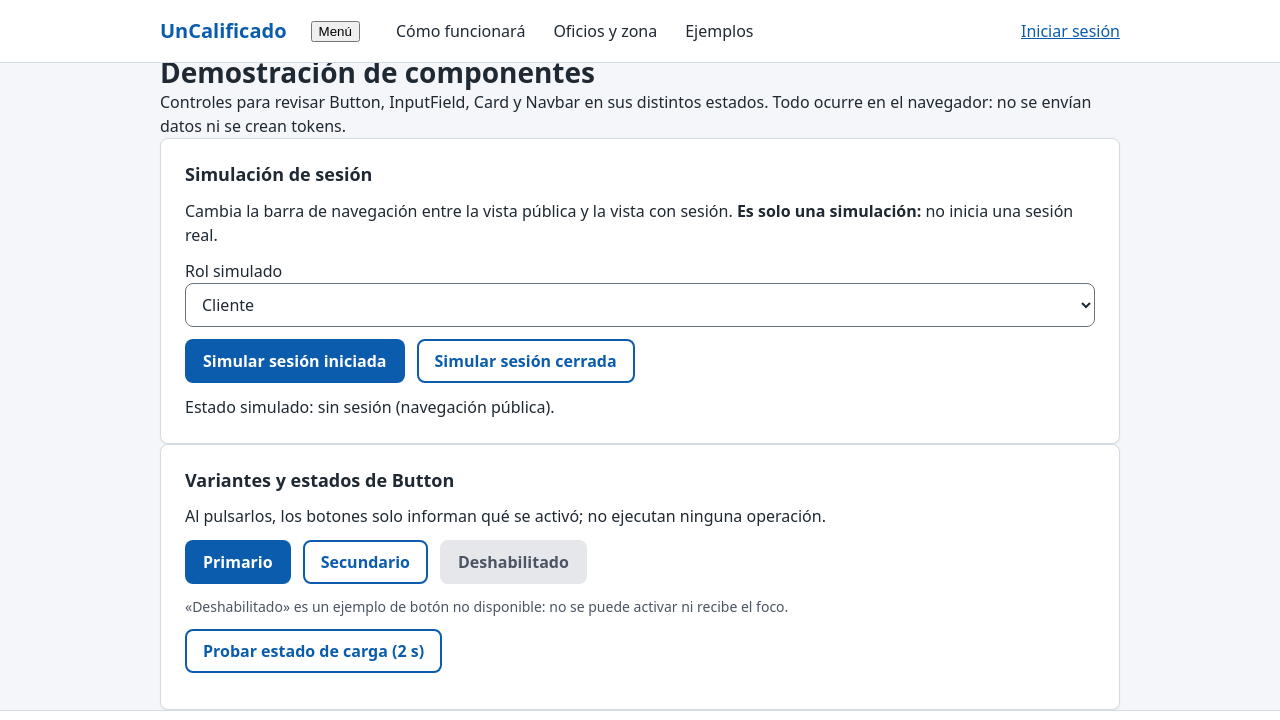
Scenario: DemoComponentesPage (pantalla principal de la vista previa) › la sesión solo cambia con los controles de simulación y la Navbar refleja el rol
(page scrolled)
Expected: the link "Iniciar sesión" is shown, [1021,19,1120,43]
Click the button "Simular sesión iniciada": (295, 361) [185,339,404,383]
(page scrolled)
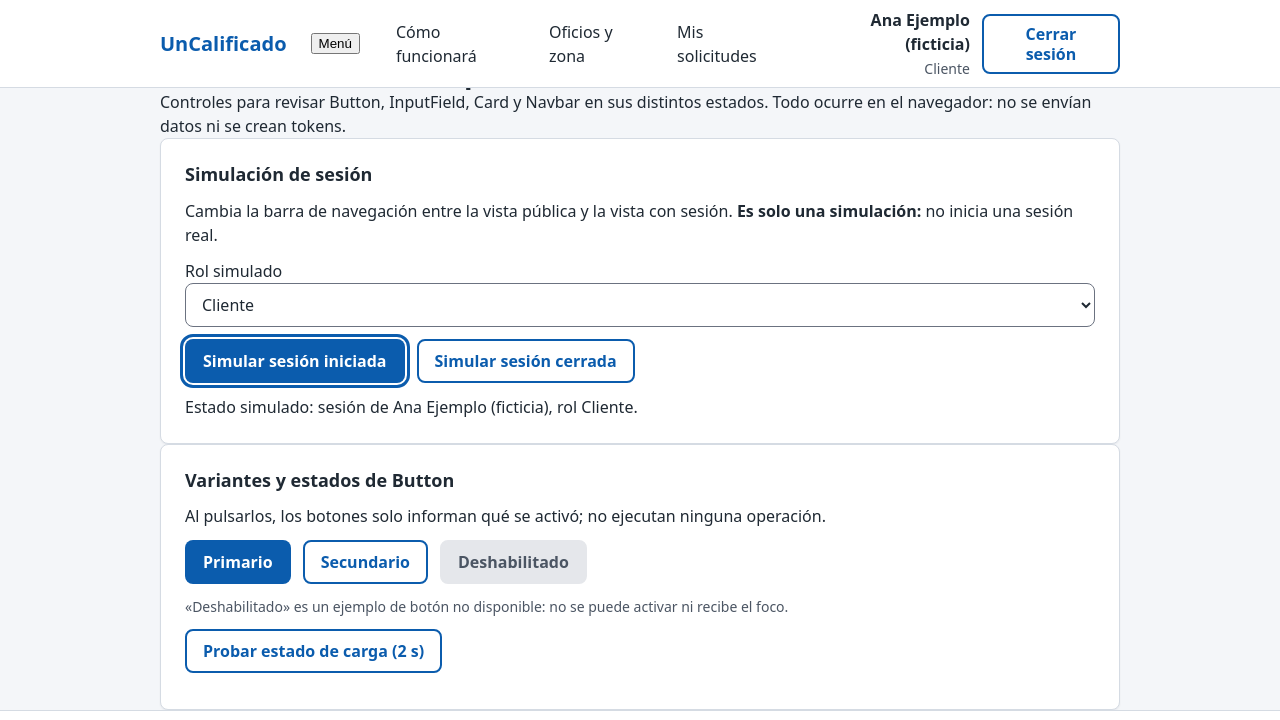
Now the text "Ana Ejemplo (ficticia)" is shown, box [871,9,970,55]
Now the link "Mis solicitudes" is shown, box [677,20,757,66]
Now the text "Estado simulado: sesión de Ana Ejemplo (ficticia), rol Cliente." is shown, box [185,396,638,418]
Select "Administrador" in the dropdown labelled "Rol simulado": (640, 305) [185,283,1095,327]
(page scrolled)
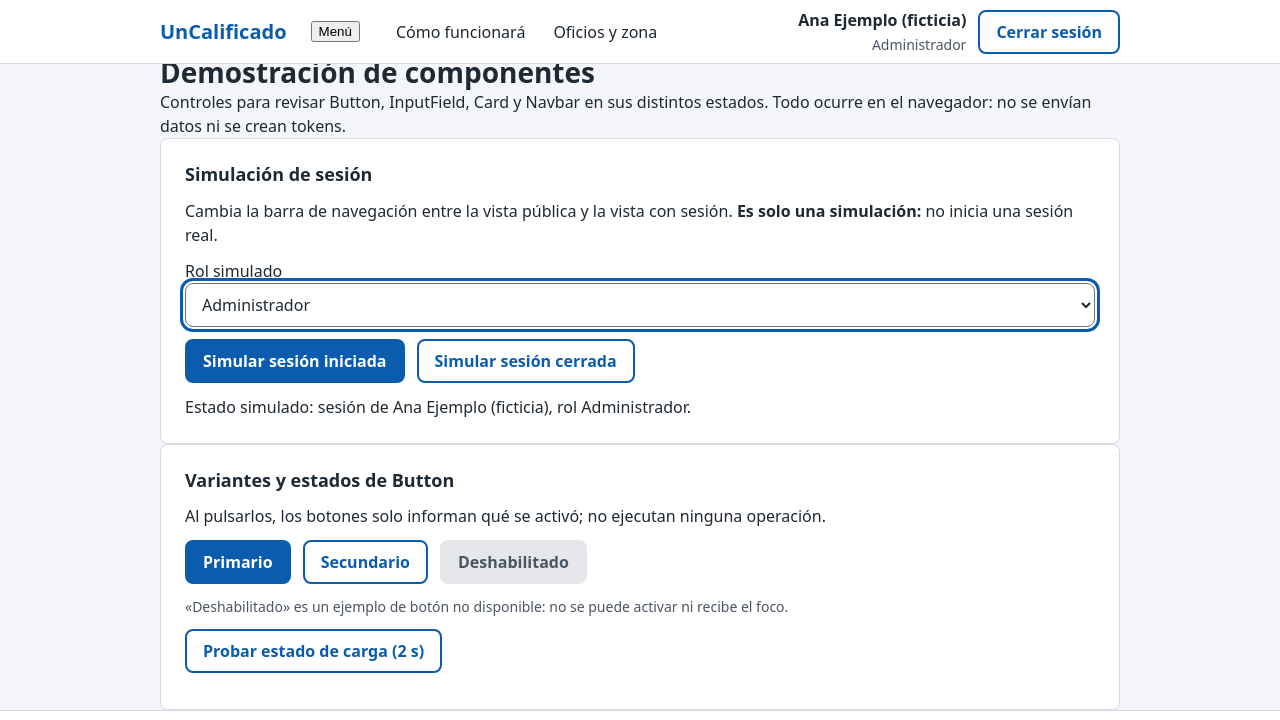
Expected: the link "solicitudes" is not shown
Click the button "Cerrar sesión": (1049, 32) [978,10,1120,54]
(page scrolled)
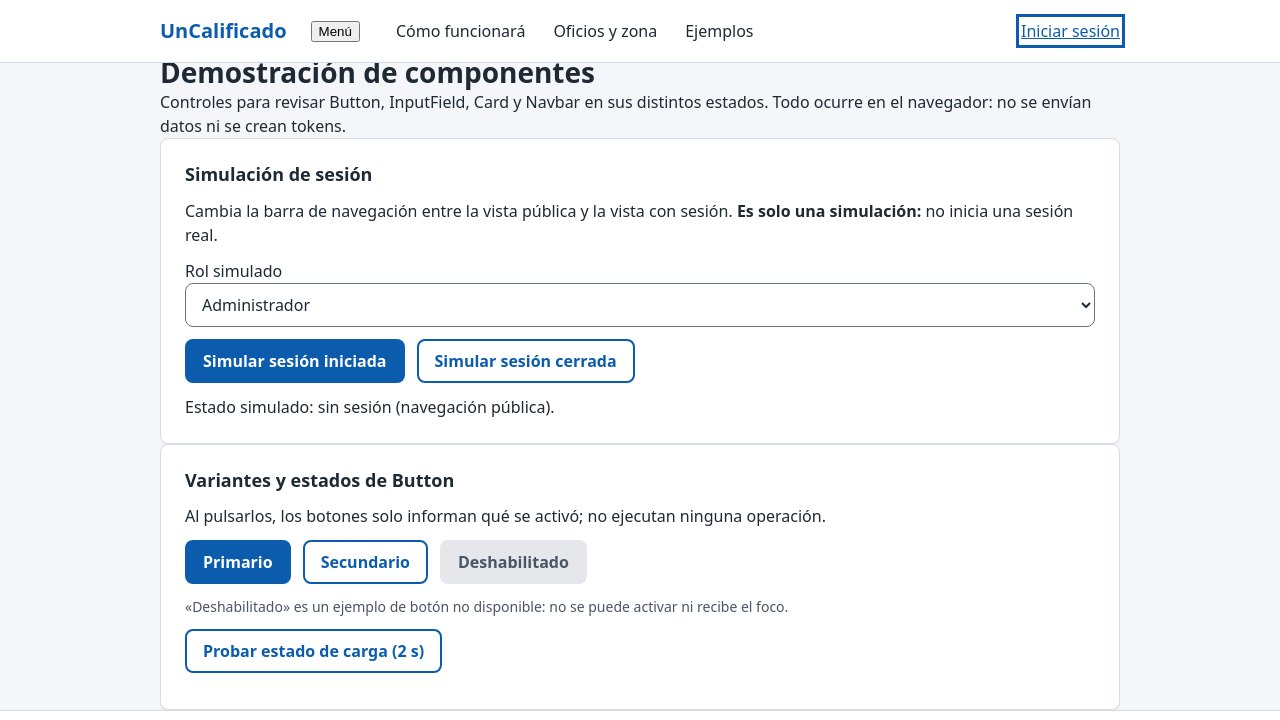
Now the link "Iniciar sesión" is shown, box [1021,19,1120,43]
